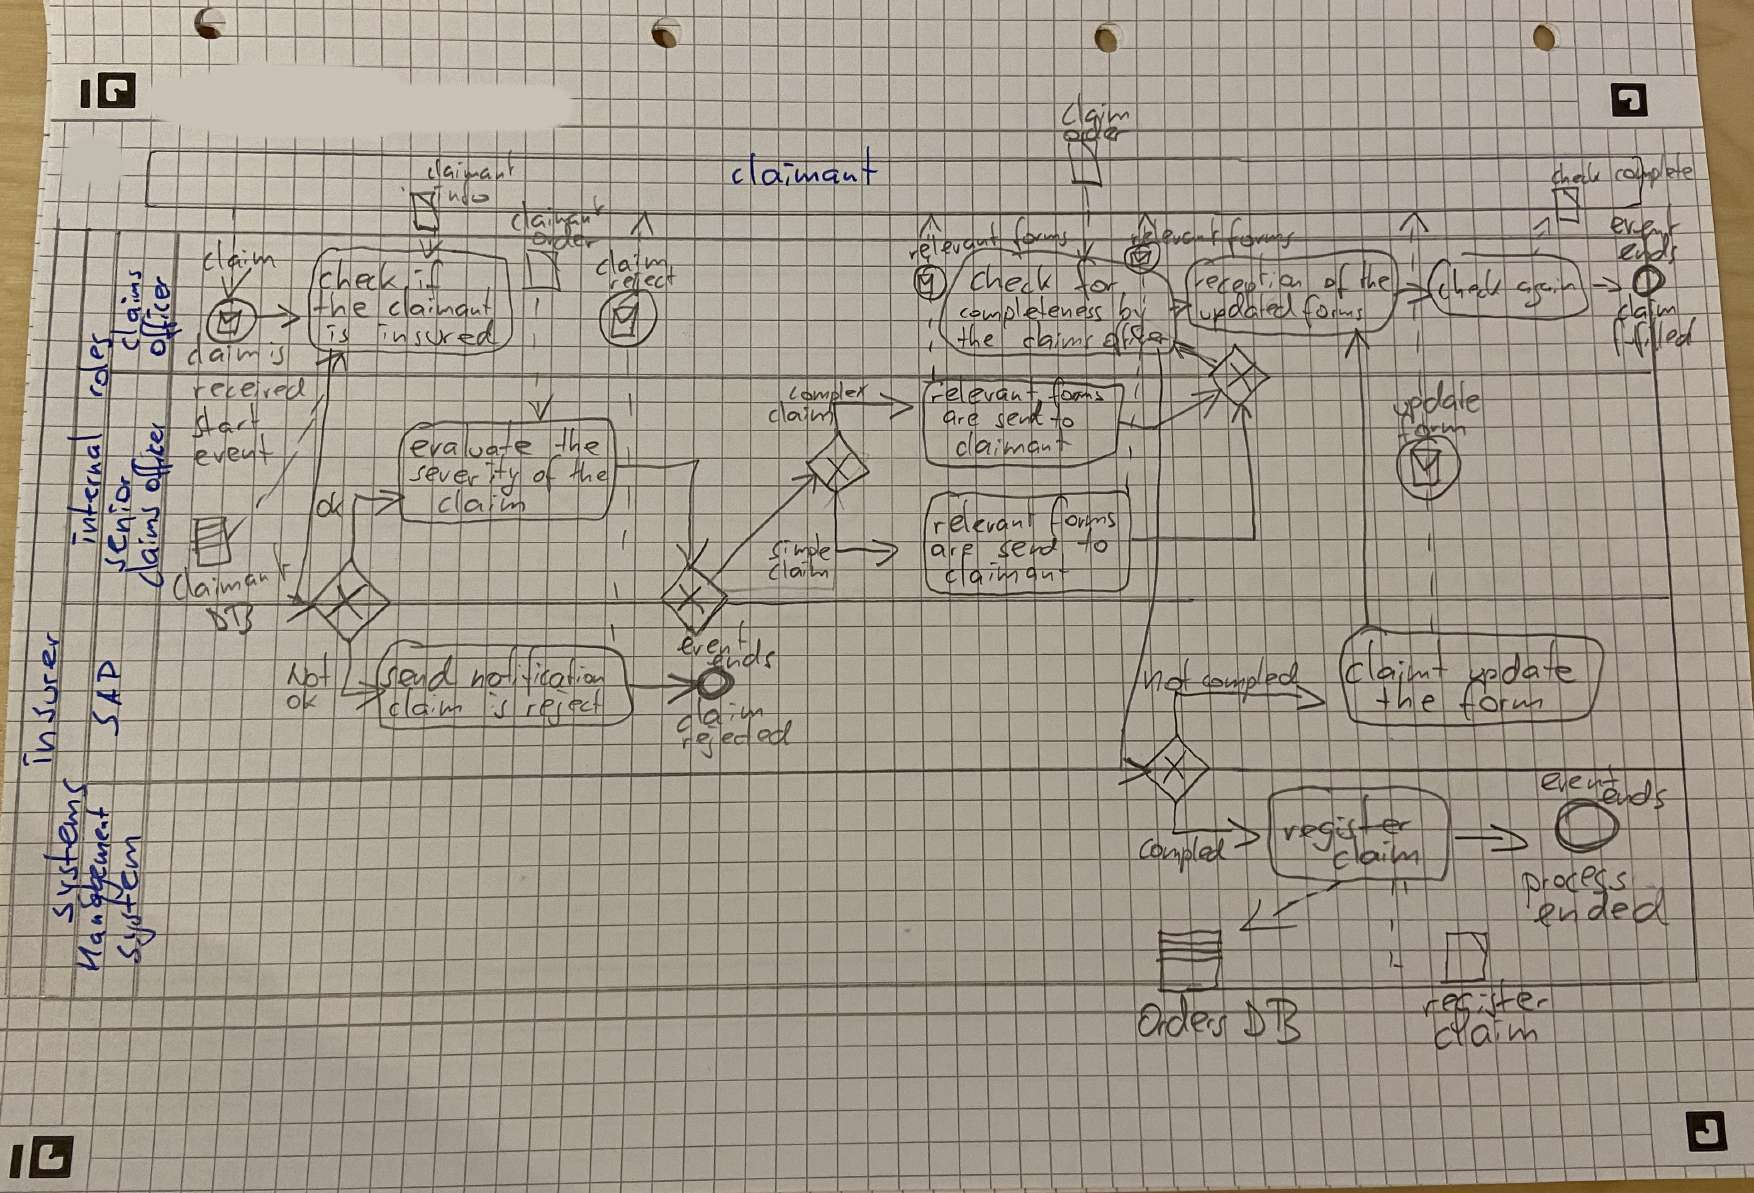Claimant: (166, 554, 295, 598)
DB: (1243, 995, 1304, 1045), (204, 598, 260, 634)
Management: (73, 802, 110, 964)
Not: (283, 659, 329, 688)
OK: (283, 687, 319, 711)
Orders: (1137, 997, 1230, 1041)
SAP: (90, 658, 124, 730)
System: (114, 832, 150, 965)
again: (1516, 274, 1574, 308)
are: (933, 537, 974, 561), (944, 405, 979, 427)
by: (1117, 292, 1147, 332)
check: (967, 265, 1055, 294), (319, 261, 399, 293), (1439, 270, 1501, 302)
claim: (1435, 1019, 1542, 1052), (1349, 643, 1432, 684), (433, 489, 530, 521), (672, 702, 764, 730), (379, 696, 467, 724), (1325, 845, 1427, 869), (200, 244, 281, 272), (591, 250, 669, 273), (1055, 103, 1131, 125), (769, 403, 836, 427), (768, 558, 833, 582), (1616, 301, 1679, 321)
claim is: (188, 340, 289, 370)
claimant: (727, 153, 877, 190), (500, 194, 608, 233), (952, 433, 1073, 462), (940, 561, 1069, 587), (381, 296, 492, 321), (429, 156, 520, 181)
claims: (134, 499, 166, 587), (116, 268, 148, 352), (1021, 326, 1097, 352)
compled: (1202, 652, 1306, 688), (1134, 836, 1232, 865)
complete: (1618, 153, 1695, 181)
completeness: (956, 300, 1105, 322)
complex: (787, 378, 868, 406)
ended: (1537, 889, 1670, 931)
ends: (1598, 779, 1673, 816), (1620, 233, 1678, 266)
evaluate: (411, 431, 535, 459)
event: (1612, 202, 1678, 237), (192, 439, 275, 463), (673, 632, 755, 656), (1540, 767, 1620, 790)
for: (1073, 268, 1121, 297)
form: (1459, 684, 1545, 715)
forms: (1227, 220, 1300, 256), (1011, 216, 1069, 260), (1049, 505, 1117, 531), (1298, 296, 1365, 322), (1049, 383, 1106, 403)
fulfilled: (1605, 316, 1707, 359)
if: (414, 262, 443, 296)
insured: (374, 322, 498, 352)
insurer: (27, 628, 63, 770)
internal: (71, 431, 104, 549)
is: (323, 324, 354, 350), (482, 691, 508, 722)
no: (438, 177, 490, 206)
not: (464, 651, 516, 694), (1147, 660, 1191, 696)
notification: (468, 652, 604, 687)
of: (531, 455, 562, 494), (1321, 261, 1349, 298)
officer: (134, 419, 170, 495), (142, 276, 174, 356), (1101, 325, 1172, 356)
ok: (311, 487, 347, 523)
order: (527, 221, 603, 257), (1058, 124, 1131, 144)
process: (1522, 861, 1628, 893)
received: (190, 375, 310, 405)
reception: (1195, 264, 1304, 296)
register: (1278, 810, 1415, 841), (1423, 984, 1549, 1019)
reject: (526, 688, 604, 722)
rejected: (677, 719, 794, 750)
relevant: (932, 505, 1037, 537), (1126, 216, 1219, 250), (929, 383, 1035, 406), (905, 240, 999, 264)
roles: (79, 328, 114, 401)
send: (383, 656, 459, 691), (995, 530, 1061, 558)
senior: (101, 470, 132, 573)
sent: (993, 405, 1046, 431)
severity: (410, 461, 519, 495)
share: (1550, 156, 1600, 182)
simple: (765, 537, 834, 561)
start: (188, 407, 262, 439)
systems: (47, 775, 83, 920)
the: (1373, 682, 1440, 712), (307, 296, 377, 320), (554, 427, 603, 457), (566, 459, 611, 489), (1360, 260, 1396, 294), (952, 324, 997, 350)
to: (1081, 530, 1109, 557), (1049, 405, 1077, 431)
update: (1467, 646, 1580, 682), (1391, 375, 1487, 414)
updated: (1200, 289, 1291, 324)
